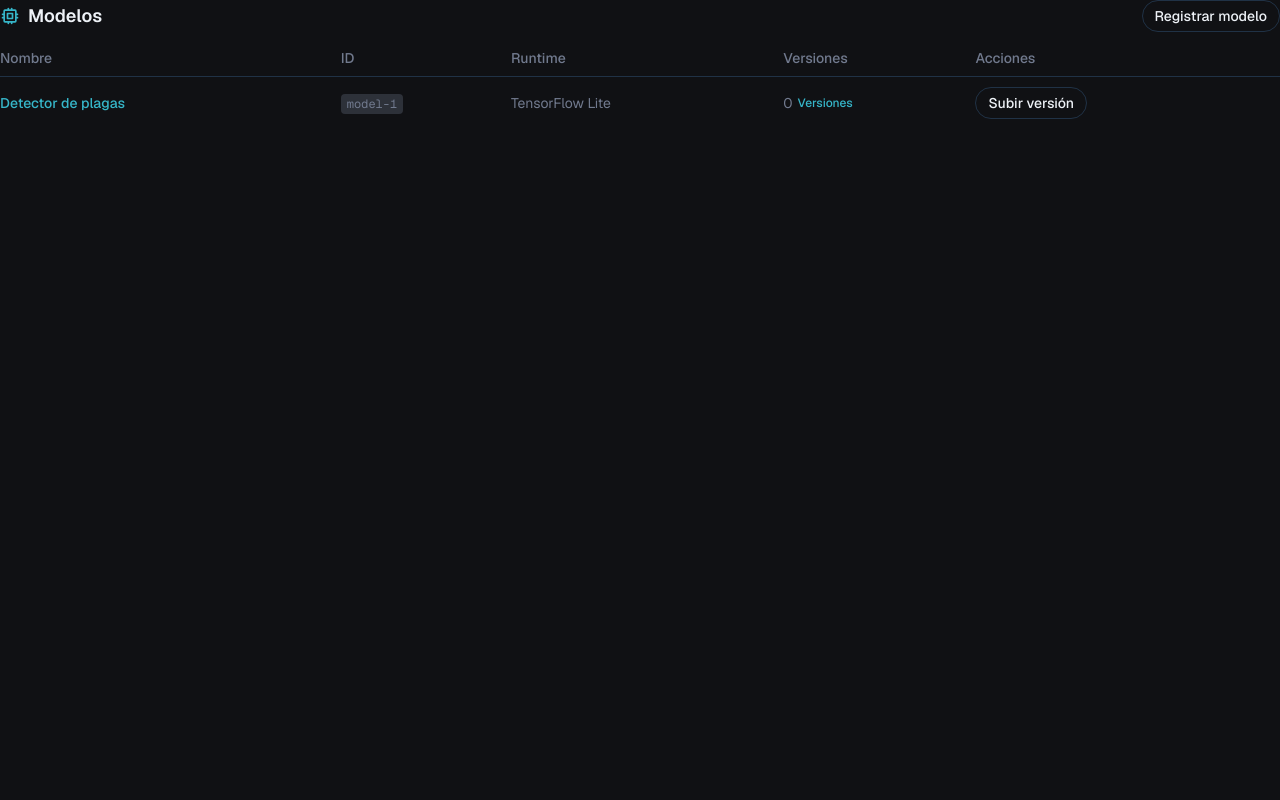
Scenario: ApplicationDetailPanel › US-012: Registrar modelo TensorFlow Lite › lists models and opens the upload dialog per model
Expected: the row with test id "model-row-model-1" is shown, [0,76,1279,129]
Click the button with test id "upload-version-trigger-model-1".
click(1031, 103)  # box [976,87,1087,119]
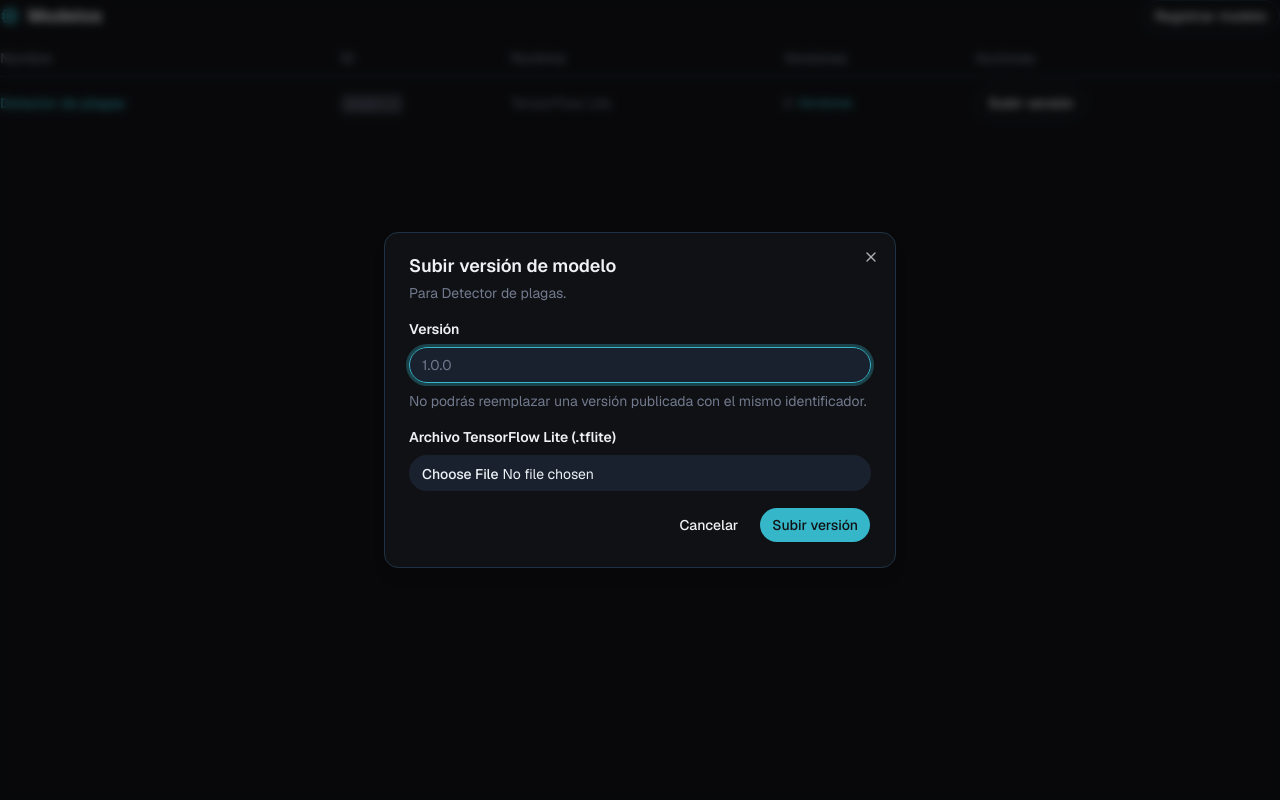
Expected: the text "Para Detector de plagas." is shown, [409,284,566,302]
Expected: the field labelled "Versión" is shown, [409,347,871,383]
Expected: the file field labelled "Archivo TensorFlow Lite (.tflite)" is shown, [409,455,871,491]
